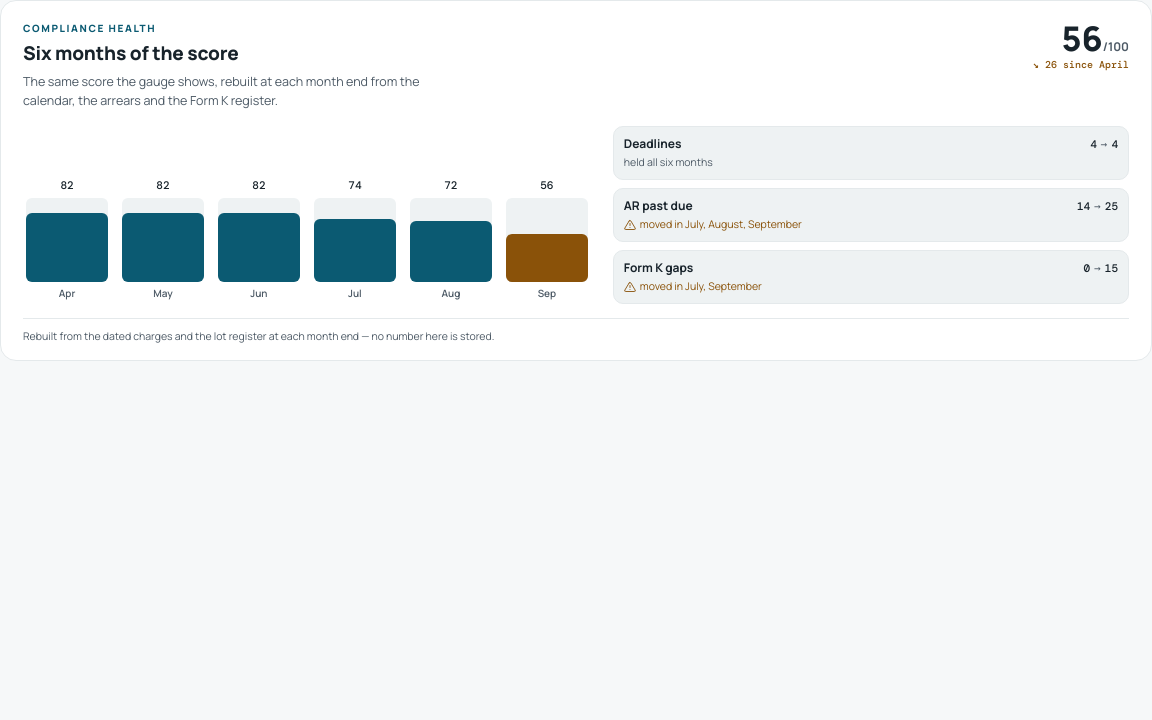
Scenario: HealthTrend › closes it with the close button too
What coordinates should you click on to do the following:
click the button with class "bar-button" showing "82 Jun"
I would click on:
 (259, 238)
Its box is [215,172,303,304].
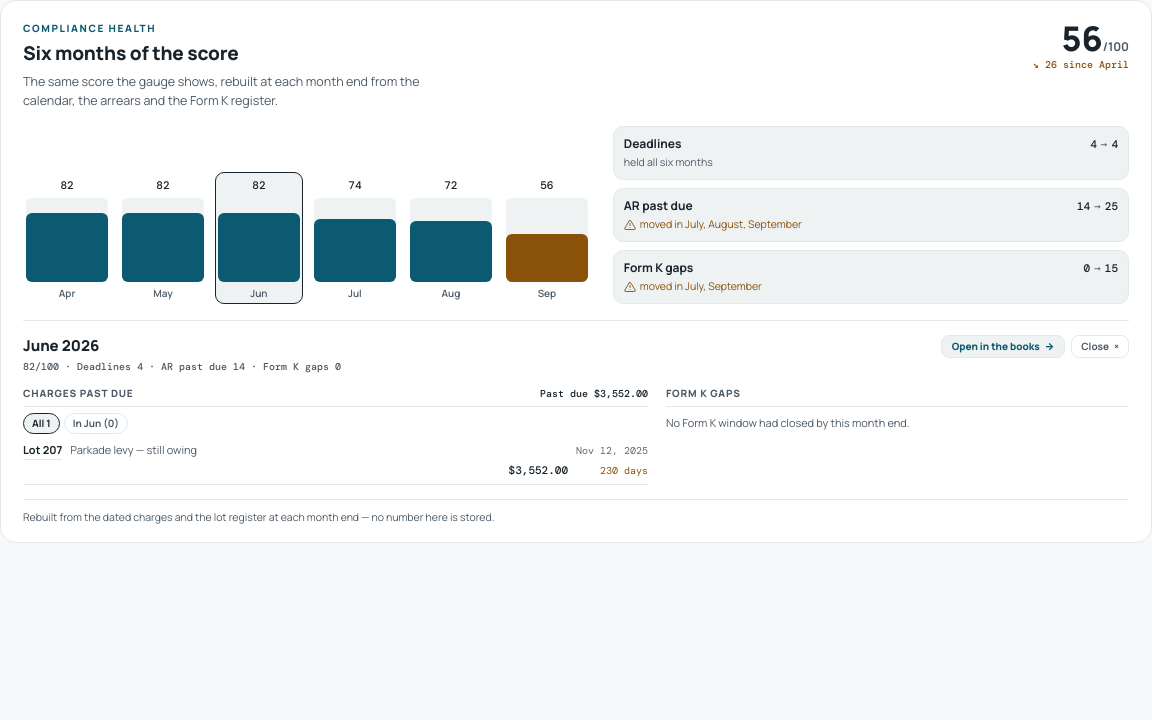
What coordinates should you click on to do the following:
click the button with class "detail-close"
I would click on:
 (1100, 346)
Its box is [1071,334,1129,358].
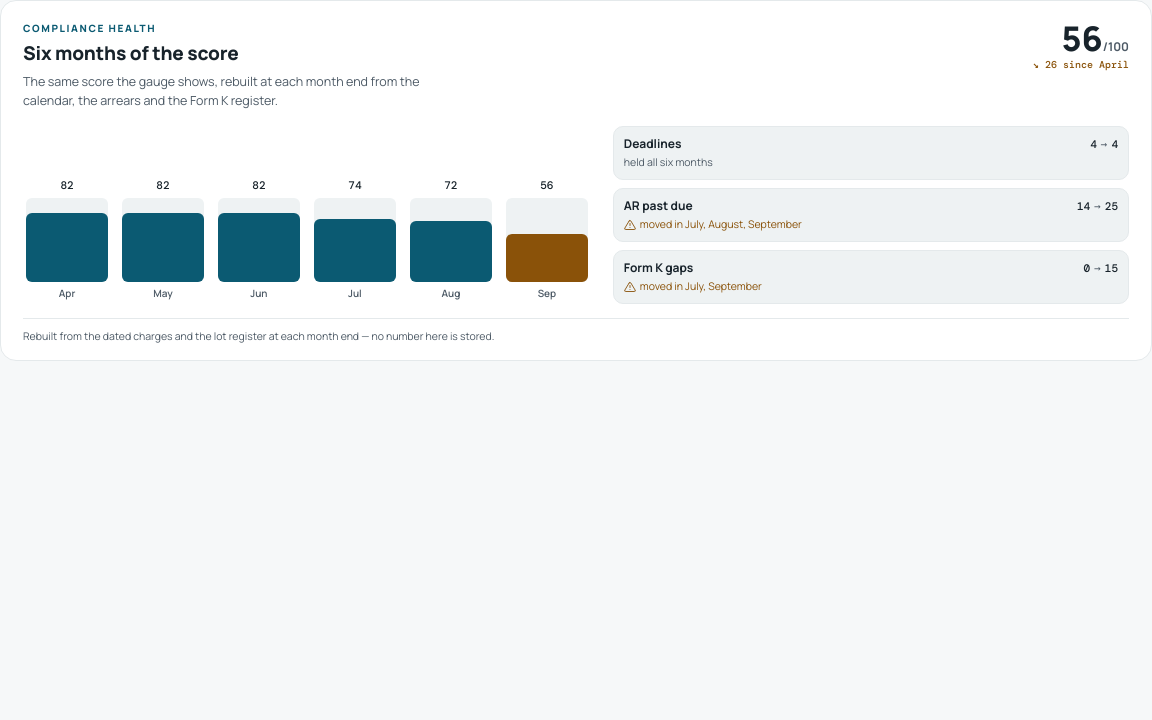
Expected: the element with class "trend-detail" is gone
